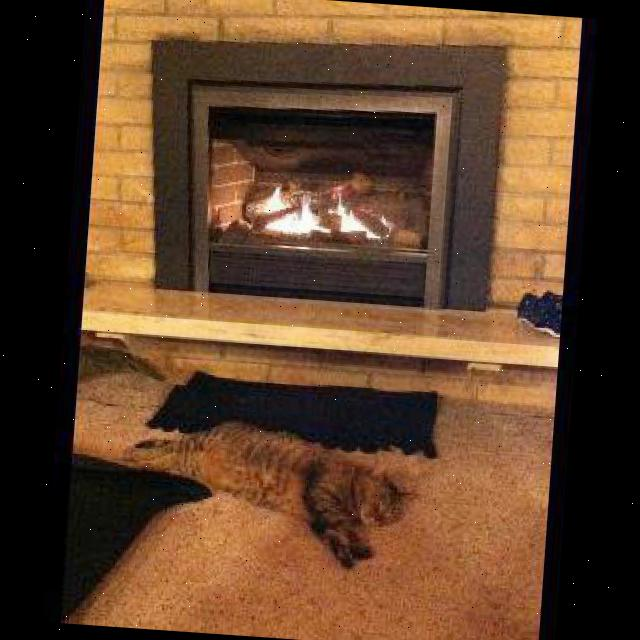fire: (227, 125, 411, 254)
